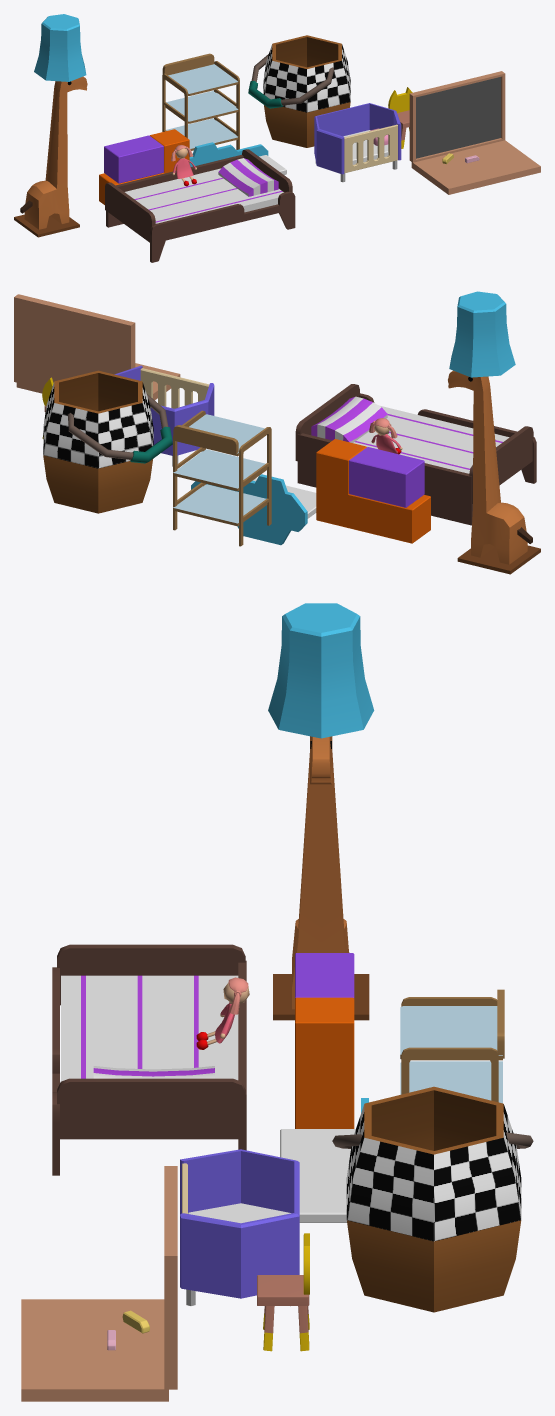
File: Level_5.fbx
3 renders of one model, top to bottom at view 1: azimuth 30°, elevation 25°; view 2: azimuth 150°, elevation 25°; view 3: azimuth 270°, elevation 25°, orthographic. The views are drawn at different scales.
Parts seen in each view (by area): view 1: Board2, Bed1, Finish_Box5, Table, Cradle, pCube8, Cubes, pCylinder1, Pillow2, pCube11, Table1, Doll; view 2: Finish_Box5, Bed1, Cubes, Board2, Table, pCube8, pCylinder1, pCube11, Cradle, Pillow2, Doll; view 3: Bed1, Finish_Box5, Board2, Cradle, pCylinder1, Cubes, Table, pCube8, pCube11, Table1, Pillow2, Doll.
Boxes of the visible parts, left/top/right/bottom form: Board2: left=409, top=71, right=540, bottom=194; Bed1: left=105, top=149, right=295, bottom=262; Finish_Box5: left=248, top=35, right=350, bottom=147; Table: left=162, top=53, right=239, bottom=150; Cradle: left=314, top=103, right=401, bottom=182; pCube8: left=14, top=76, right=87, bottom=237; Cubes: left=99, top=129, right=189, bottom=204; pCylinder1: left=34, top=14, right=86, bottom=81; Pillow2: left=218, top=158, right=278, bottom=196; pCube11: left=189, top=142, right=286, bottom=174; Table1: left=388, top=87, right=412, bottom=148; Doll: left=171, top=145, right=196, bottom=186; Finish_Box5: left=43, top=370, right=172, bottom=513; Bed1: left=295, top=384, right=536, bottom=525; Cubes: left=316, top=439, right=430, bottom=543; Board2: left=14, top=294, right=180, bottom=400; Table: left=173, top=410, right=271, bottom=546; pCube8: left=448, top=370, right=540, bottom=574; pCylinder1: left=449, top=291, right=515, bottom=377; pCube11: left=191, top=474, right=316, bottom=545; Cradle: left=114, top=365, right=214, bottom=466; Pillow2: left=311, top=396, right=387, bottom=442; Doll: left=369, top=418, right=402, bottom=454; Bed1: left=52, top=944, right=246, bottom=1175; Finish_Box5: left=332, top=1086, right=533, bottom=1312; Board2: left=21, top=1166, right=177, bottom=1401; Cradle: left=180, top=1149, right=299, bottom=1306; pCylinder1: left=268, top=603, right=374, bottom=738; Cubes: left=295, top=953, right=354, bottom=1128; Table: left=400, top=989, right=504, bottom=1103; pCube8: left=273, top=736, right=369, bottom=1020; pCube11: left=280, top=1098, right=368, bottom=1222; Table1: left=257, top=1233, right=309, bottom=1351; Pillow2: left=93, top=1066, right=214, bottom=1078; Doll: left=196, top=977, right=249, bottom=1049.
Bounding box in the file's own units: 14.66 × 6.92 × 7.32.
37 materials, 1 textured.
